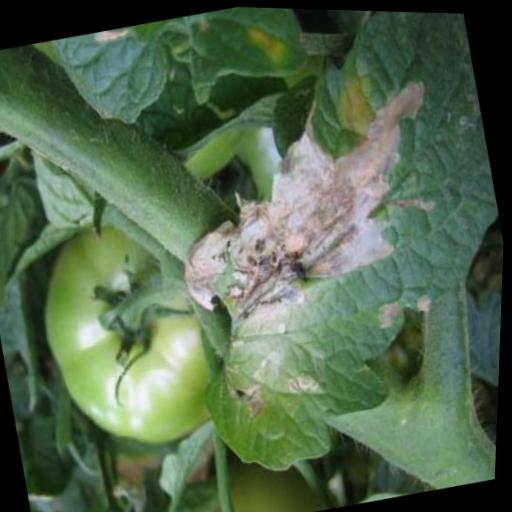Leaf_Miner: (123, 3, 512, 489)
